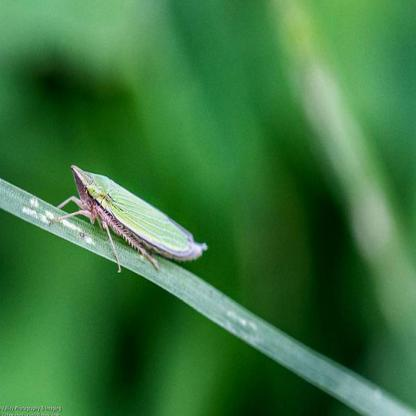green-leafhopper: (68, 161, 195, 282)
